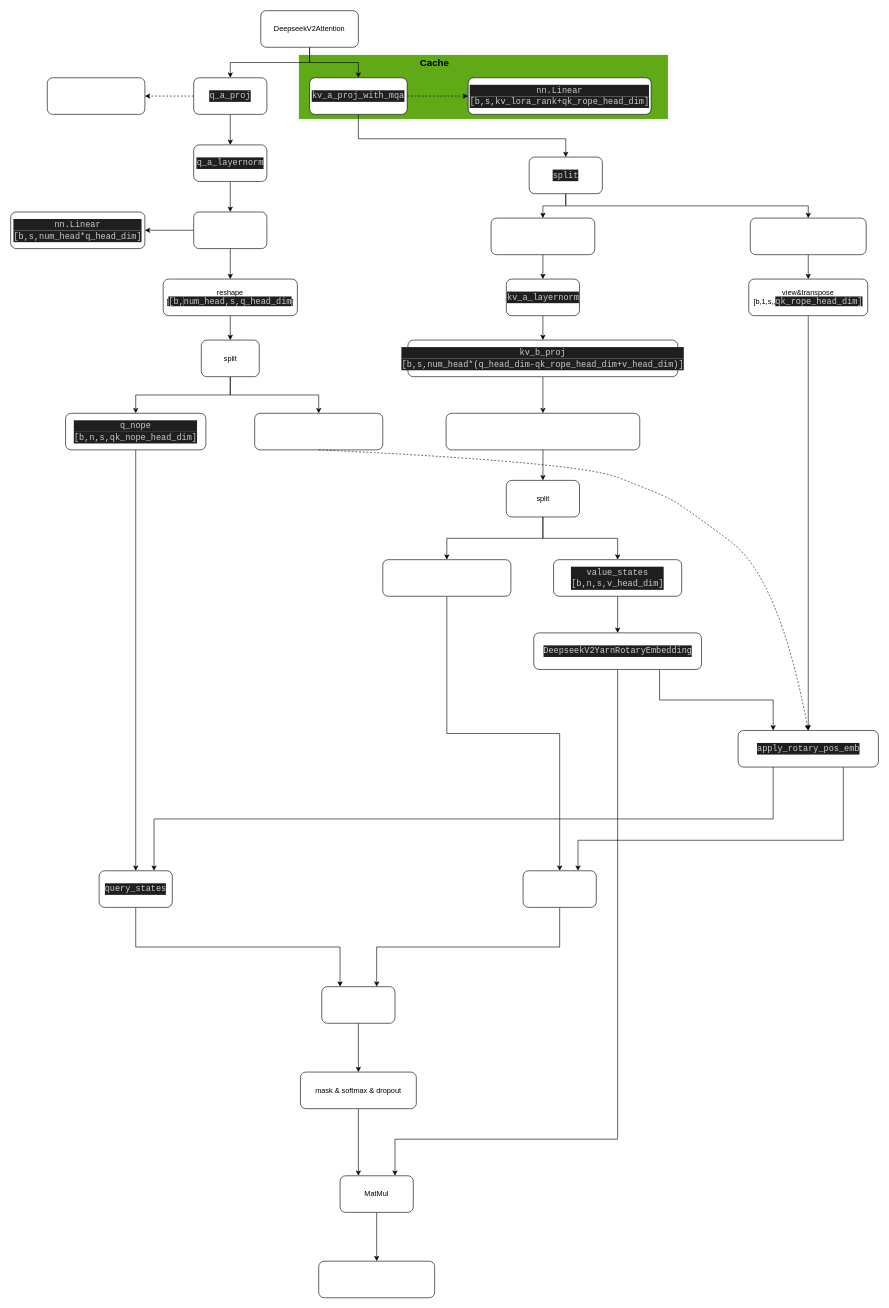
This 889x1308 diagram has some shape labels left out. The shapes that lost their labels are listed below. From the top down, each one's centre as x and y in pixels, then its label:
pixel 96 95: nn.Linear [b,s,q_lora_rank]
pixel 230 230: q_b_proj
pixel 542 236: compressed_kv [b,s,kv_lora_rank]
pixel 808 236: k_pe [b,s,qk_rope_head_dim]
pixel 318 431: q_pe [b,n,s, qk_rope_head_dim]
pixel 542 431: view&transpose [b,num_head,s, qk_nope_head_dim+ v_head_dim ]
pixel 446 577: k_nope [b,n,s,qk_nope_head_dim]
pixel 559 888: key_states
pixel 358 1004: Matmul Atten_Weight
pixel 376 1279: transpose & reshape & proj
